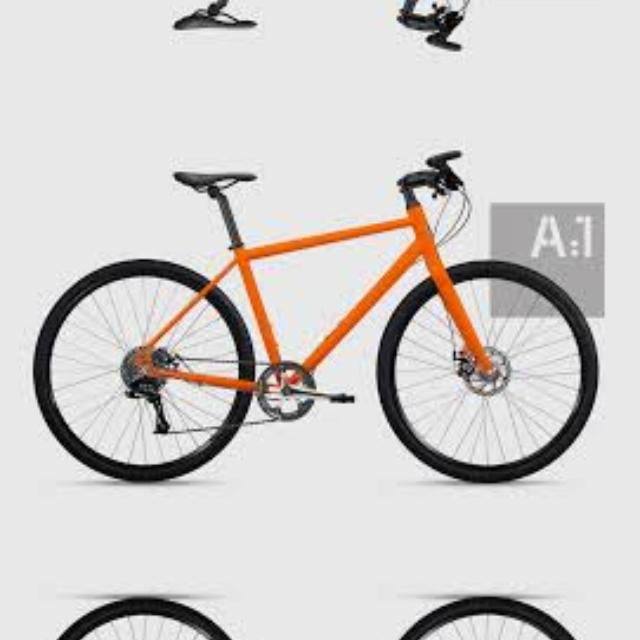obstacle: (19, 134, 614, 503), (18, 574, 613, 640), (18, 0, 613, 65)
